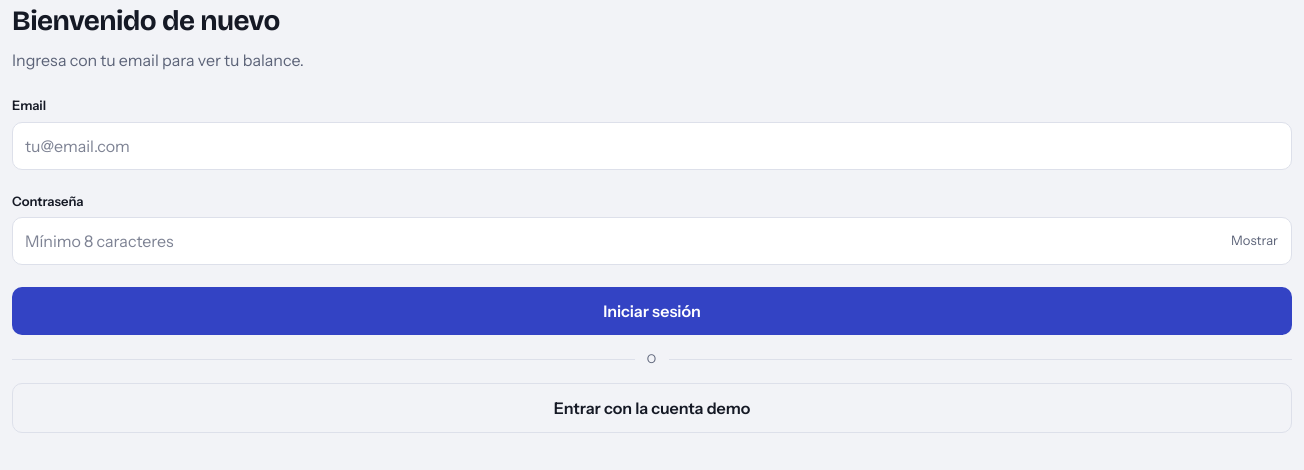
Scenario: LoginComponent › contraseña de 5 caracteres: faltan 3
Type "ana@email.com" into the field with id "email" at [652, 146], box 12,122 -> 1292,170
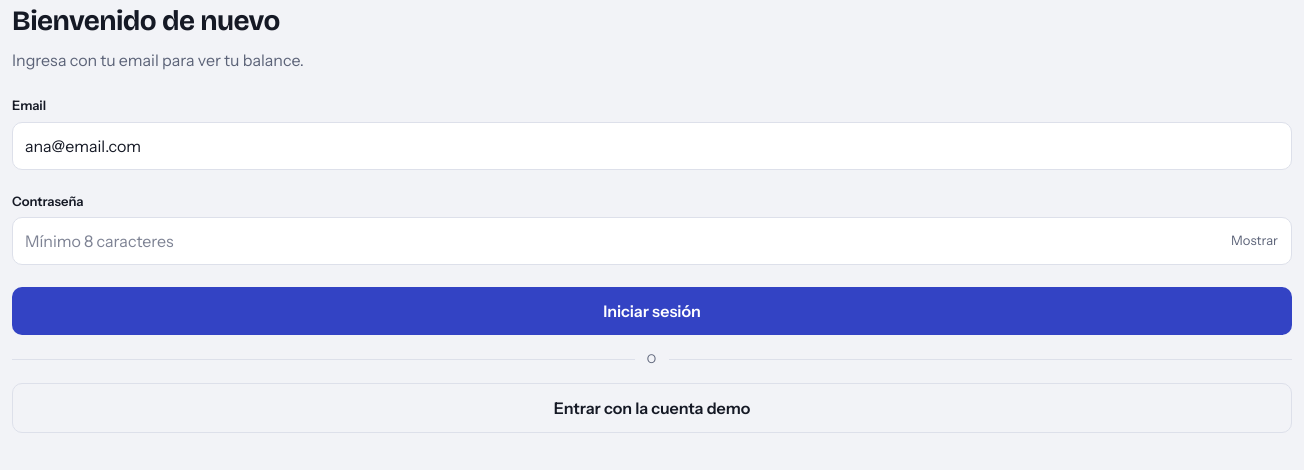
Type "12345" into the password field labelled "Contraseña" at [652, 241], box 12,217 -> 1292,265
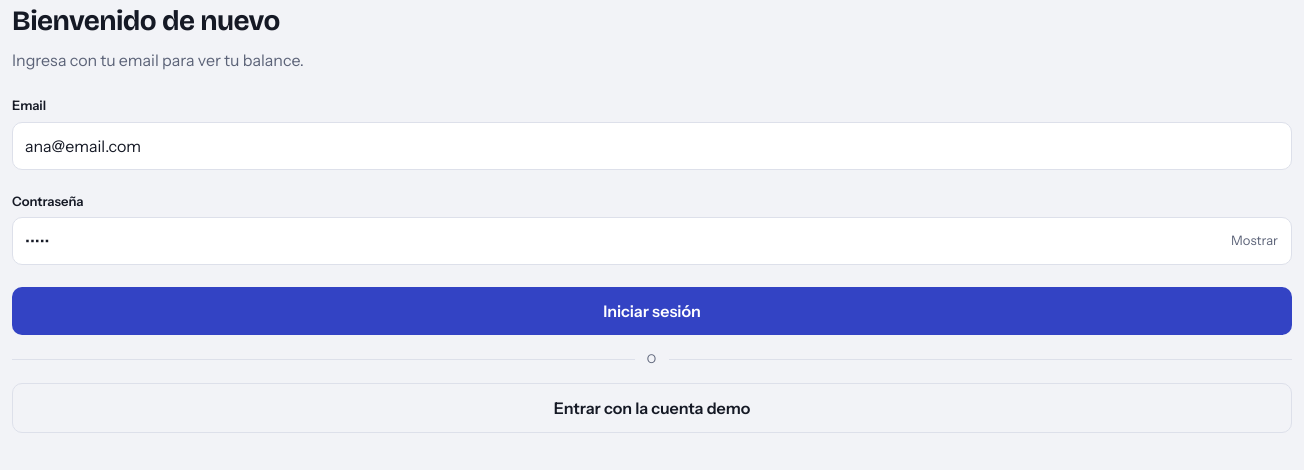
Submit the form
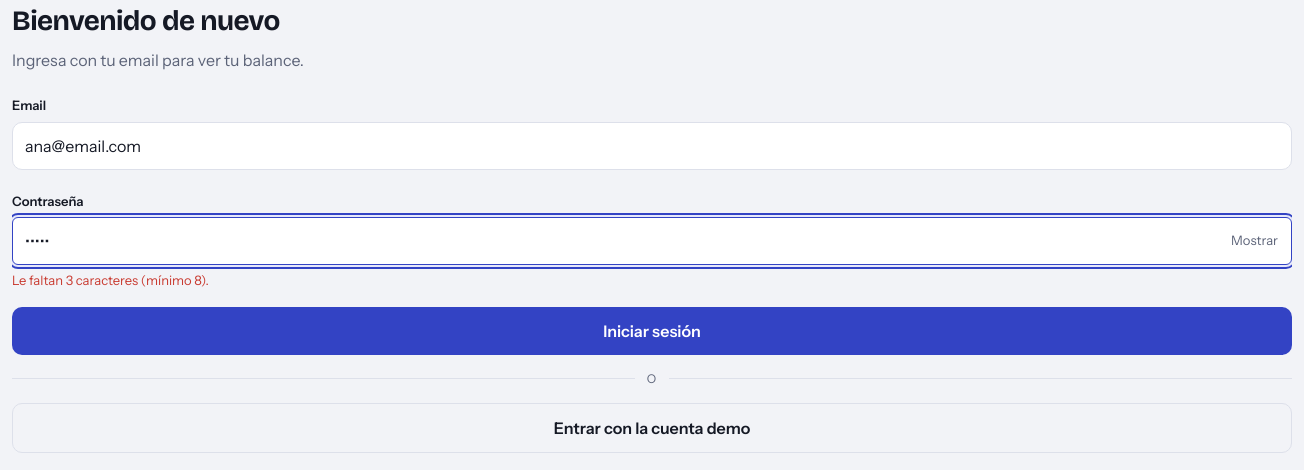
Expected: the text "Le faltan 3 caracteres (mínimo 8)." is shown, 12,272 -> 209,288
